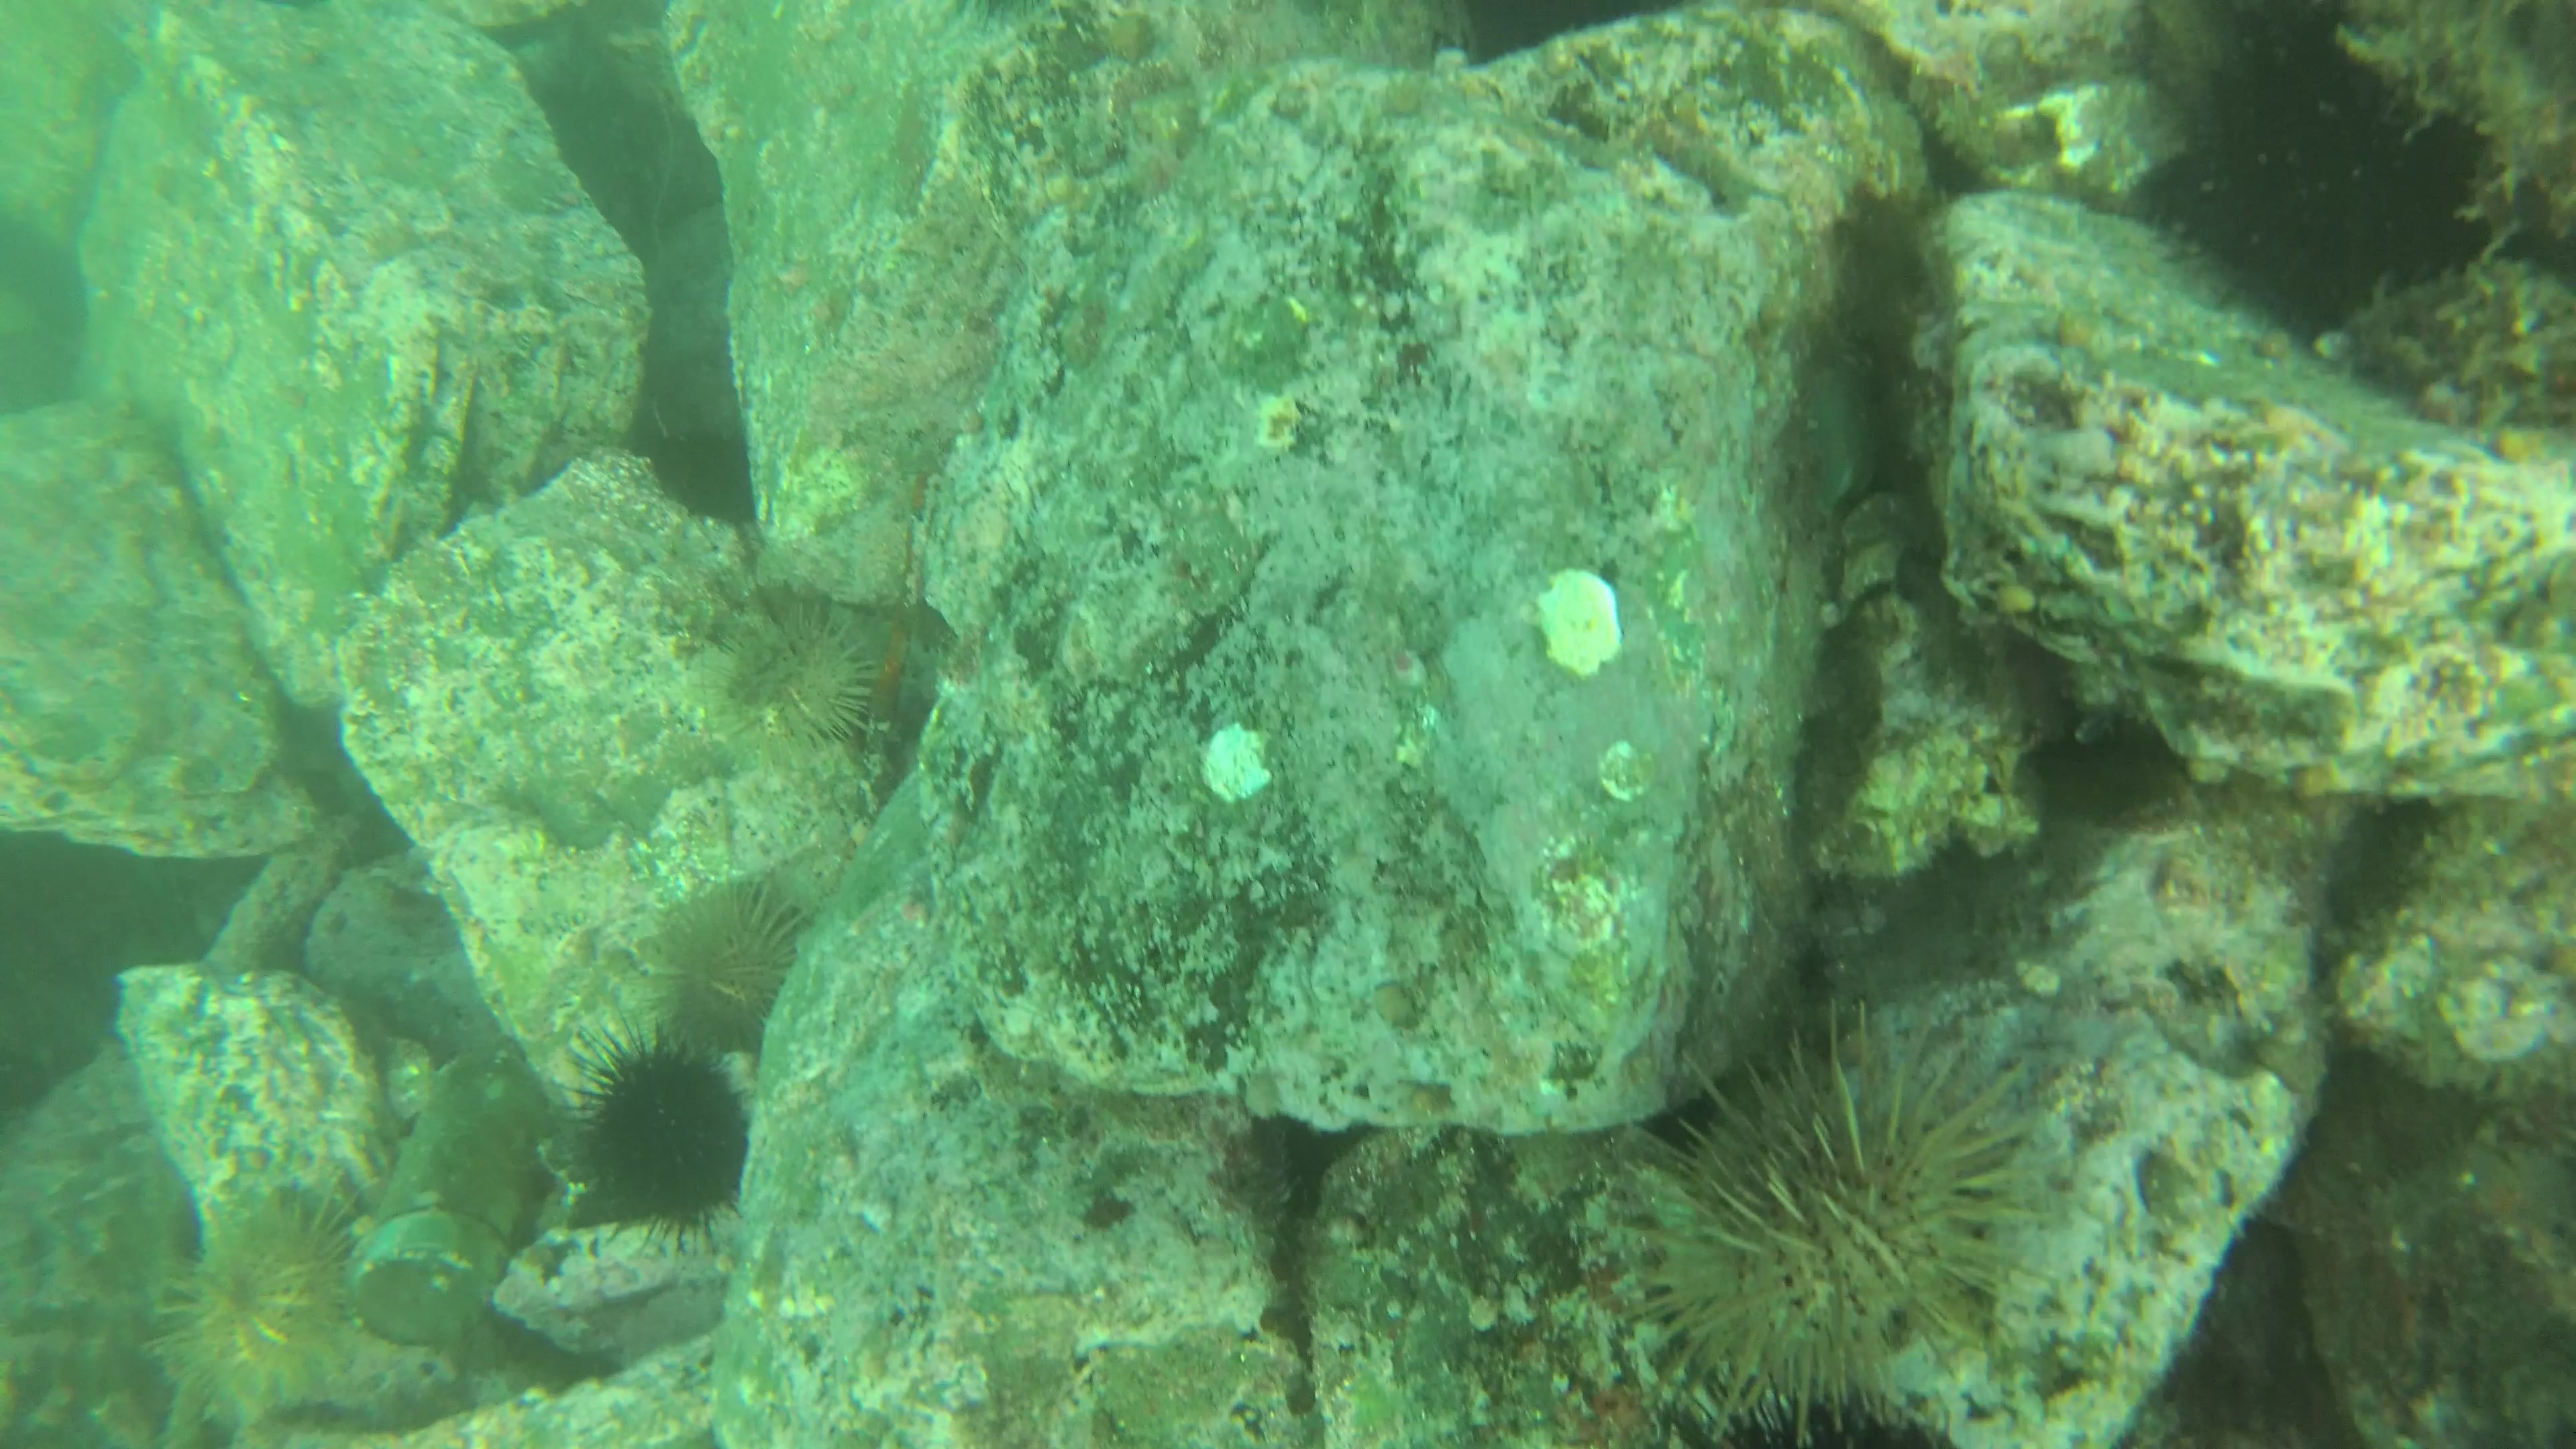echinus: (1610, 991, 2035, 1449), (548, 1028, 763, 1247), (157, 1184, 366, 1401), (713, 605, 881, 757), (646, 881, 807, 1037)
scallop: (1523, 566, 1635, 679)
